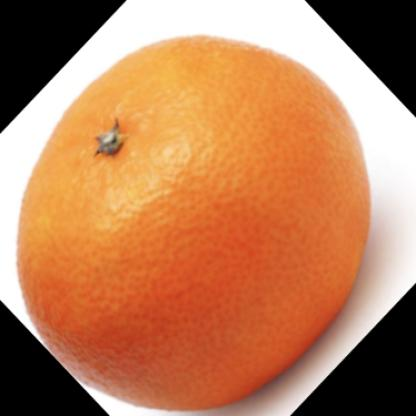fresh: (14, 36, 368, 411)
